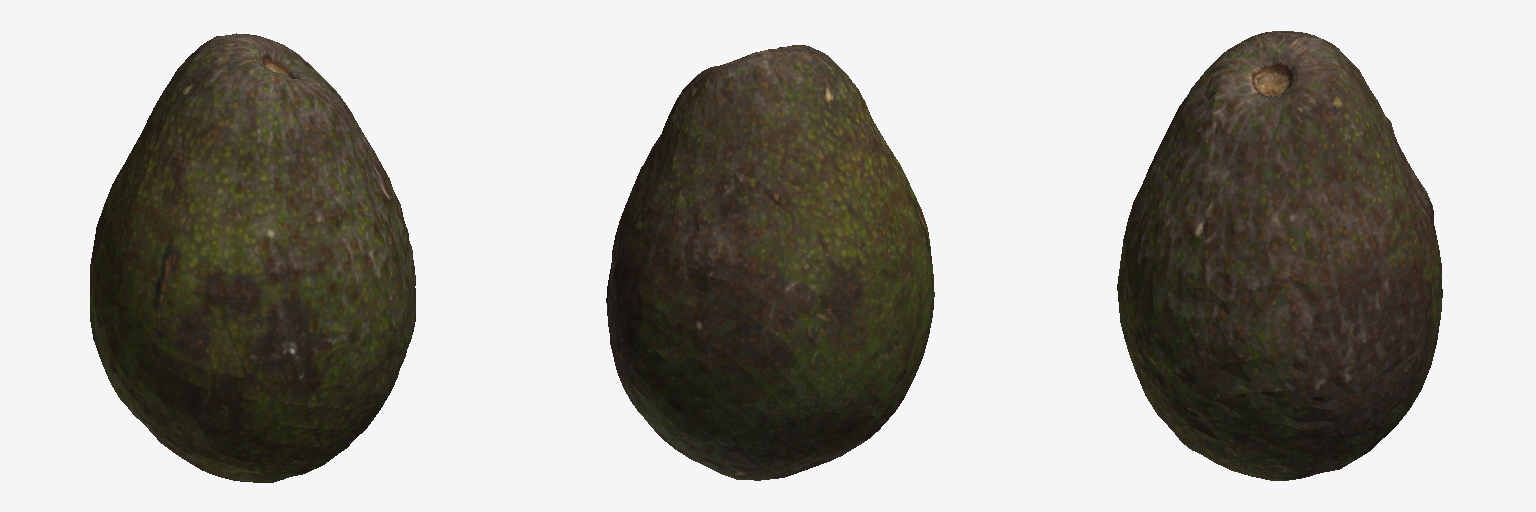
3 renders of one model, left to right at view 1: azimuth 30°, elevation 25°; view 2: azimuth 150°, elevation 25°; view 3: azimuth 270°, elevation 25°, orthographic.
Visible parts, largest first — view 1: 10020_avocado_lp; view 2: 10020_avocado_lp; view 3: 10020_avocado_lp.
Part boxes in pixels (left/top/right/bottom): 10020_avocado_lp: left=90, top=33, right=415, bottom=482; 10020_avocado_lp: left=606, top=45, right=934, bottom=480; 10020_avocado_lp: left=1117, top=31, right=1442, bottom=480.
Bounding box in the file's own units: 7.88 × 11.11 × 7.72.
1 materials, 1 textured.